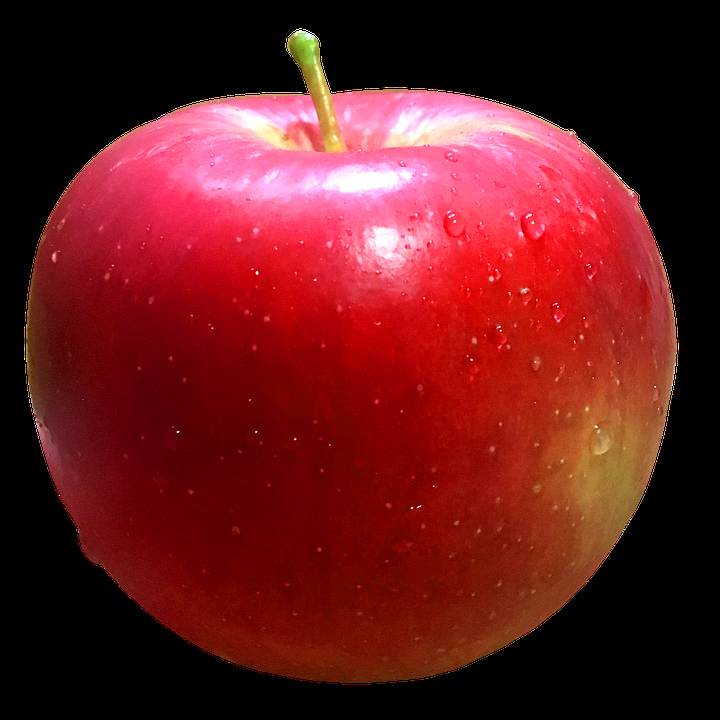apple: (25, 87, 679, 686)
